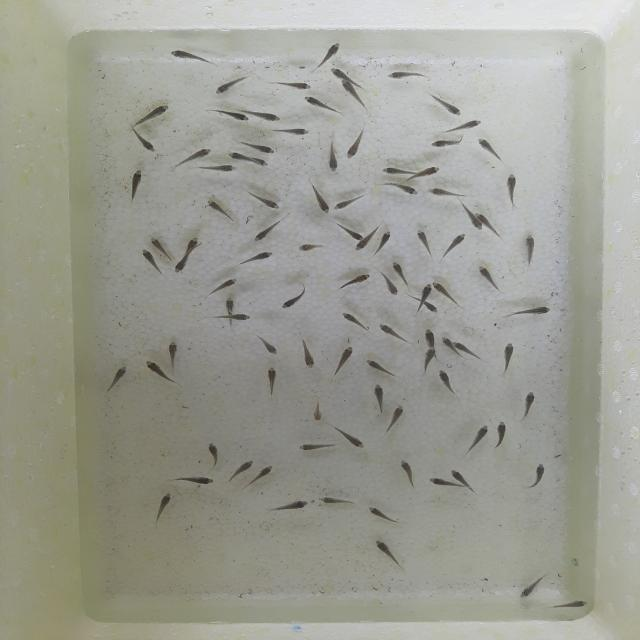fingerling: (344, 122, 384, 164), (157, 46, 221, 66), (422, 90, 465, 118), (198, 197, 236, 226), (474, 265, 508, 295), (310, 40, 346, 68), (294, 332, 319, 371), (135, 101, 179, 123), (247, 334, 287, 358), (203, 274, 250, 294), (329, 343, 355, 379), (377, 540, 408, 570), (253, 459, 278, 495), (241, 192, 285, 212), (315, 488, 355, 510), (432, 282, 467, 307), (435, 370, 466, 398), (339, 306, 368, 335), (336, 421, 367, 448), (171, 471, 220, 488), (120, 168, 146, 200), (503, 306, 555, 322), (492, 342, 518, 374), (299, 94, 335, 117), (270, 76, 316, 94), (202, 108, 250, 125), (447, 468, 481, 492), (264, 498, 312, 515), (212, 74, 252, 94), (172, 146, 210, 167), (478, 135, 506, 163), (103, 363, 133, 389), (236, 249, 277, 268), (142, 359, 173, 384), (238, 139, 280, 157), (304, 187, 330, 216), (527, 462, 549, 496), (367, 356, 400, 378), (386, 403, 411, 432), (500, 172, 524, 202), (366, 382, 389, 413), (518, 578, 550, 600), (446, 117, 485, 135), (380, 322, 407, 348), (333, 192, 368, 212), (394, 458, 418, 487), (227, 458, 257, 481), (250, 222, 281, 244), (374, 270, 400, 296), (203, 438, 224, 470), (148, 235, 178, 257), (520, 388, 542, 418), (412, 229, 437, 255), (441, 233, 467, 258), (366, 506, 402, 524), (129, 130, 157, 153), (163, 339, 185, 368), (254, 109, 289, 127), (376, 226, 397, 256), (468, 422, 489, 451), (295, 442, 338, 456), (137, 248, 162, 272), (283, 284, 308, 308), (340, 78, 359, 109), (521, 231, 540, 262), (263, 362, 282, 393), (455, 340, 483, 361), (302, 398, 326, 422), (266, 126, 310, 139), (426, 476, 456, 495), (338, 272, 372, 288), (428, 186, 464, 201), (384, 183, 422, 197), (419, 325, 442, 348), (384, 70, 428, 82), (430, 138, 470, 151), (391, 258, 411, 284), (411, 164, 448, 178), (334, 225, 366, 241), (182, 234, 204, 257), (548, 599, 589, 611), (456, 216, 482, 234), (495, 421, 510, 452), (379, 164, 412, 178), (154, 491, 171, 518), (419, 346, 437, 371), (327, 141, 339, 176), (190, 165, 235, 174), (173, 258, 193, 277), (211, 312, 253, 321), (293, 241, 327, 252), (228, 149, 252, 164), (413, 283, 435, 299), (475, 205, 491, 226), (332, 66, 352, 80), (418, 302, 441, 314), (252, 156, 270, 171), (441, 337, 455, 356), (222, 299, 238, 313), (355, 242, 370, 251)
